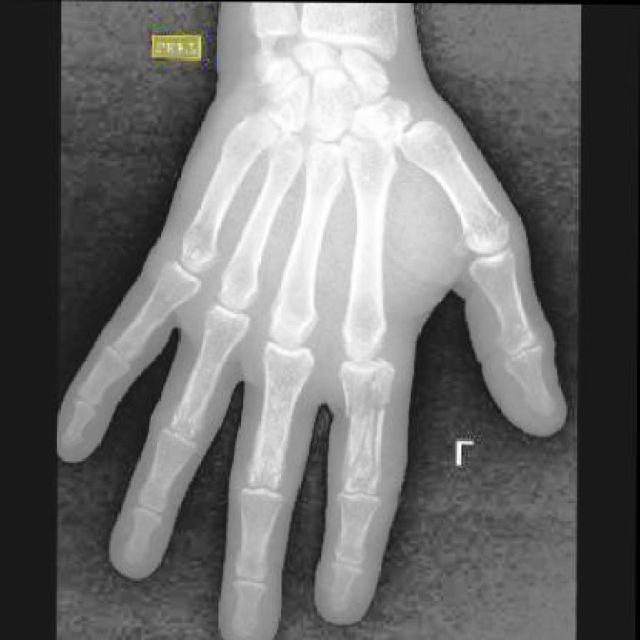Fracture: (333, 359, 398, 430)
